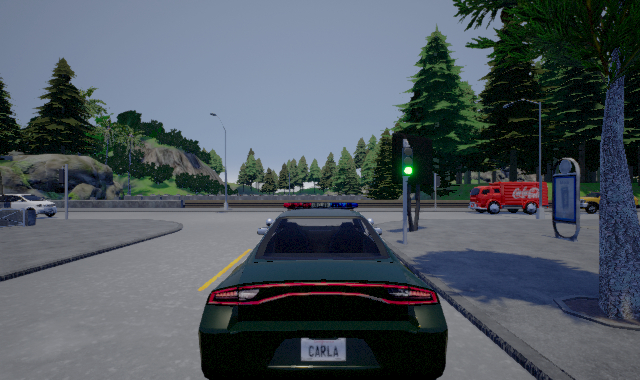traffic_light: (400, 146, 415, 179)
vehicle: (198, 202, 448, 380), (468, 182, 548, 217), (580, 191, 640, 215), (1, 194, 57, 217)
